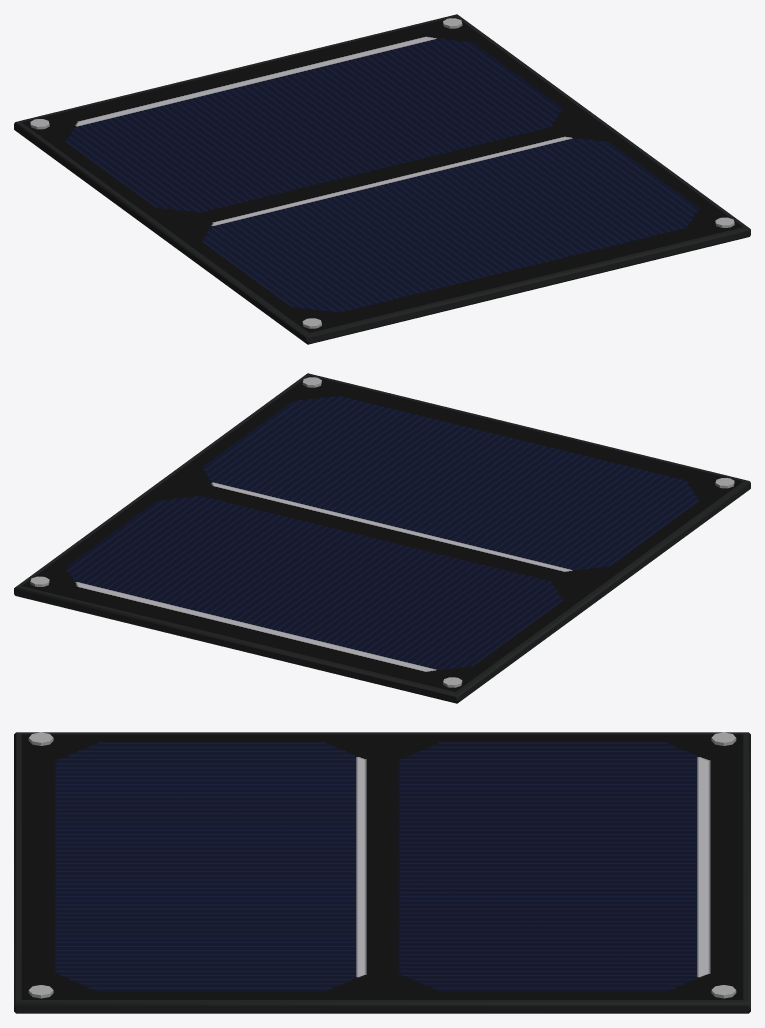
File: mod_solar_body_1u.glb
3 views of the same model, one above another, from view 1: azimuth 30°, elevation 25°; view 2: azimuth 150°, elevation 25°; view 3: azimuth 270°, elevation 25° (orthographic). The views are drawn at different scales.
Parts seen in each view (by area): view 1: mod_solar_body_1u; view 2: mod_solar_body_1u; view 3: mod_solar_body_1u.
Boxes of the visible parts, x1,y1,x2,y2 form: mod_solar_body_1u: (14,14,750,344); mod_solar_body_1u: (14,373,750,703); mod_solar_body_1u: (14,732,750,1013).
Bounding box in the file's own units: 0.83 × 0.021 × 0.95.
Materials: 3 (1 with a texture image).
